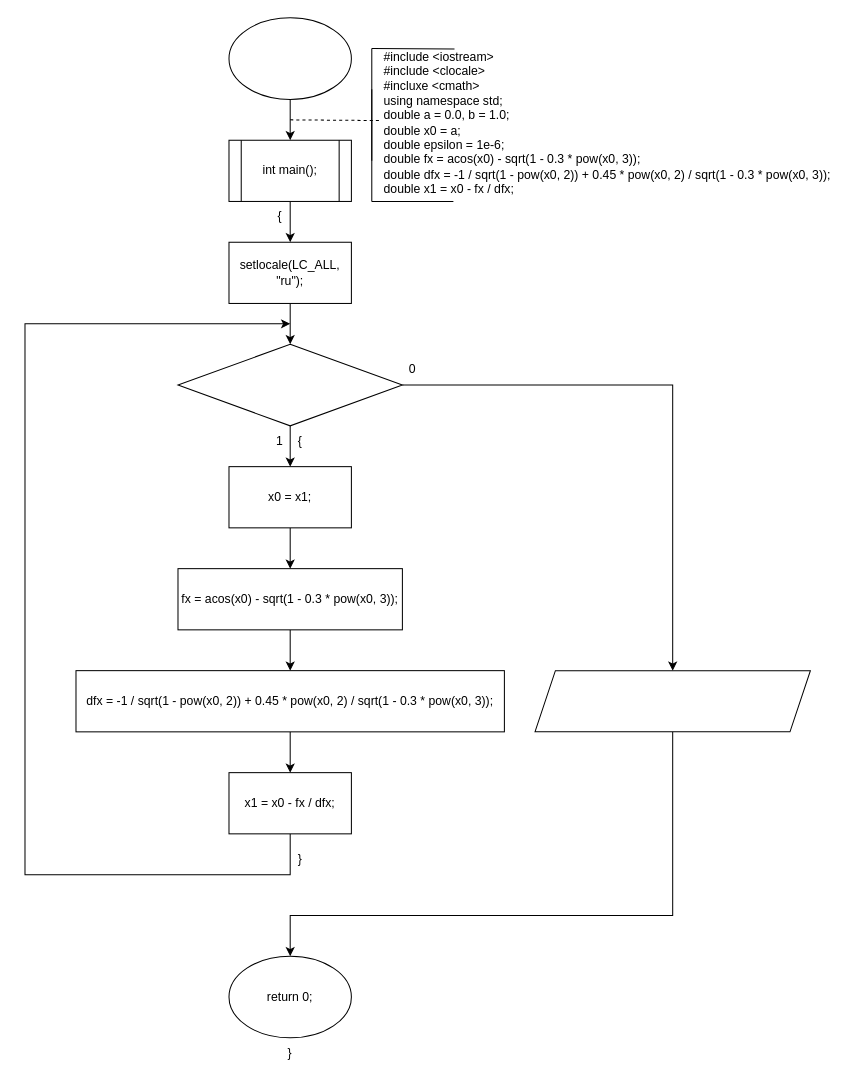
Some shapes in this 859 by 1086 pixel diagram are drawn without their labels. Each missing label, with the centre of its shape:
cout << "Приближенное значение корня уравнения: " << x1 << endl;: (672,701)
while (abs(x1 - x0) > epsilon): (289,384)
Начало: (289,58)
